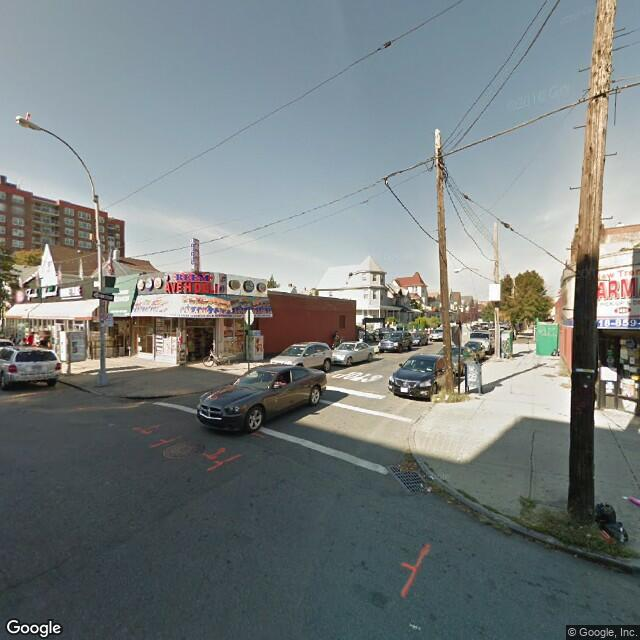litter: (620, 494, 640, 508), (416, 482, 434, 496), (581, 532, 592, 540), (570, 554, 581, 561), (446, 391, 454, 400), (425, 476, 437, 481)
